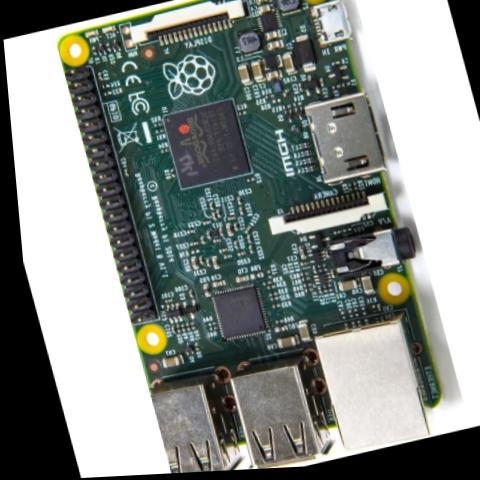Raspberry-Pi-2-Model-B: (49, 0, 462, 478)
